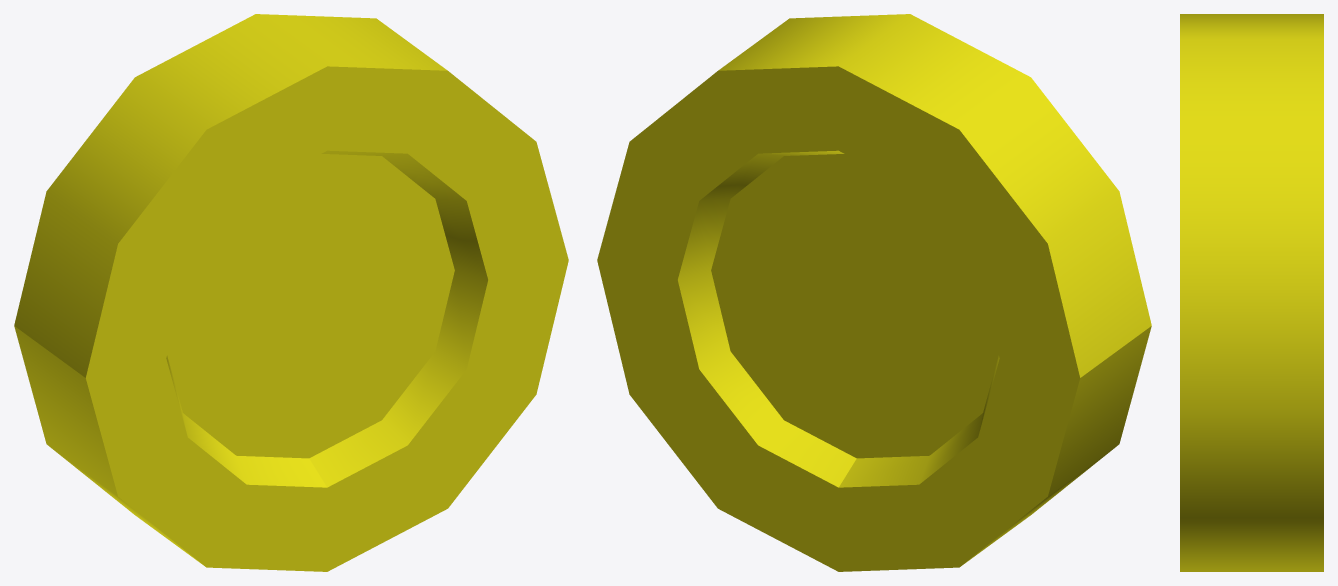
File: PipeCap.fbx
3 renders of one model, left to right at view 1: azimuth 30°, elevation 25°; view 2: azimuth 150°, elevation 25°; view 3: azimuth 270°, elevation 25°, orthographic.
Parts seen in each view (by area): view 1: PipeCap; view 2: PipeCap; view 3: PipeCap.
Part boxes in pixels (x1,y1,x2,y2): PipeCap: [14, 14, 568, 571]; PipeCap: [597, 14, 1151, 571]; PipeCap: [1180, 14, 1323, 571].
Bounding box in the file's own units: 60.02 × 60.02 × 15.41.
